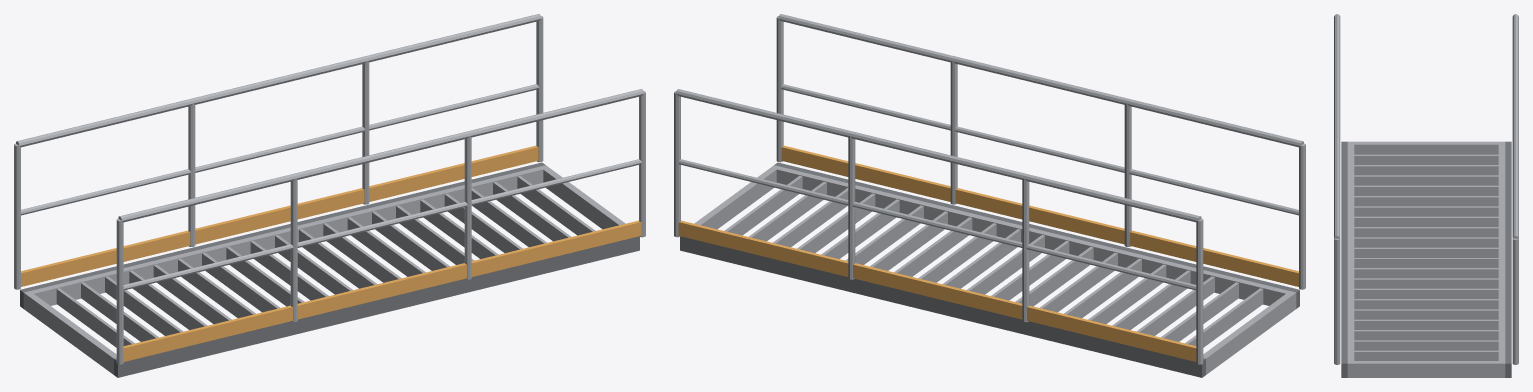
Rendered from modular-greybox-architecture-kit-catwalk-straight-763cb551__22881.glb.
The picture shows the model from 3 angles, left to right: view 1: azimuth 30°, elevation 25°; view 2: azimuth 150°, elevation 25°; view 3: azimuth 270°, elevation 25°; orthographic projection. The views are drawn at different scales.
Parts seen in each view (by area): view 1: catwalk-straight; view 2: catwalk-straight; view 3: catwalk-straight.
Boxes of the visible parts, left/top/right/bottom form: catwalk-straight: left=14, top=14, right=645, bottom=377; catwalk-straight: left=674, top=14, right=1305, bottom=377; catwalk-straight: left=1334, top=14, right=1518, bottom=377.
Size of the model in its own units: 4.05 by 1.19 by 1.41.
